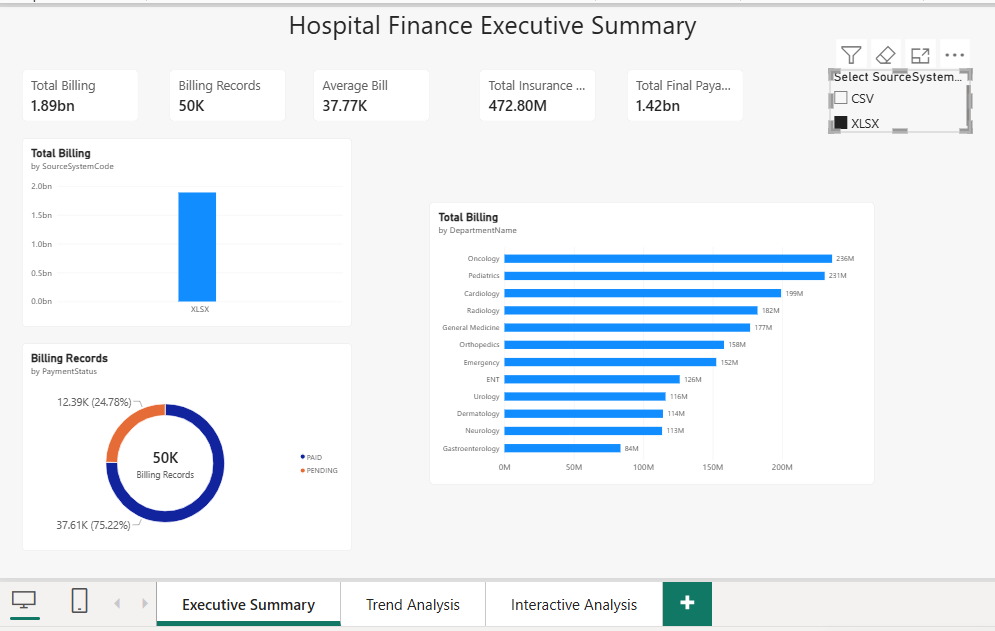

What the dashboard file says about the page in this screenshot:
{"tool":"powerbi","page":{"name":"Executive Summary","canvas":[1920,1080],"ordinal":0},"visuals":[{"type":"textbox","box":[10.1,0,1540.2,91],"z":0},{"type":"cardVisual","fields":{"Data":["FactFinanceBilling.Total Billing"]},"box":[47.3,118.2,220.2,98.8],"z":1000},{"type":"cardVisual","fields":{"Data":["FactFinanceBilling.Billing Records"]},"box":[326.3,118.2,220.2,98.8],"z":2000},{"type":"cardVisual","fields":{"Data":["FactFinanceBilling.Average Bill"]},"box":[598.2,118.2,220.2,98.8],"z":3000},{"type":"cardVisual","fields":{"Data":["FactFinanceBilling.Total Insurance Cover"]},"box":[912.7,118.2,220.2,98.8],"z":4000},{"type":"cardVisual","fields":{"Data":["FactFinanceBilling.Total Final Payable"]},"box":[1191.7,118.2,220.2,98.8],"z":5000},{"type":"clusteredColumnChart","fields":{"Category":["DimHospitalSource.SourceSystemCode"],"Y":["FactFinanceBilling.Total Billing"]},"box":[47.3,248.3,624.2,357],"z":6000},{"type":"clusteredBarChart","fields":{"Category":["DimDepartmentFinance.DepartmentName"],"Y":["FactFinanceBilling.Total Billing"]},"box":[818.1,368.9,841.8,534.4],"z":6001},{"type":"donutChart","fields":{"Category":["FactFinanceBilling.PaymentStatus"],"Y":["FactFinanceBilling.Billing Records"]},"box":[47.3,636.1,624.2,392.5],"z":6002},{"type":"slicer","fields":{"Values":["DimHospitalSource.SourceSystemCode"]},"box":[1574.8,118.2,267.2,118.2],"z":6003}]}

Visuals, with their boxes on the page's 1920x1080 design canvas (x1, y1, x2, y2). These are canvas units, not pixel positions in the 995x631 screenshot, which may show the page scaled, cropped or inside an application window:
textbox: (x1=10, y1=0, x2=1550, y2=91)
cardVisual - FactFinanceBilling.Total Billing: (x1=47, y1=118, x2=268, y2=217)
cardVisual - FactFinanceBilling.Billing Records: (x1=326, y1=118, x2=546, y2=217)
cardVisual - FactFinanceBilling.Average Bill: (x1=598, y1=118, x2=818, y2=217)
cardVisual - FactFinanceBilling.Total Insurance Cover: (x1=913, y1=118, x2=1133, y2=217)
cardVisual - FactFinanceBilling.Total Final Payable: (x1=1192, y1=118, x2=1412, y2=217)
clusteredColumnChart - DimHospitalSource.SourceSystemCode x FactFinanceBilling.Total Billing: (x1=47, y1=248, x2=672, y2=605)
clusteredBarChart - DimDepartmentFinance.DepartmentName x FactFinanceBilling.Total Billing: (x1=818, y1=369, x2=1660, y2=903)
donutChart - FactFinanceBilling.PaymentStatus x FactFinanceBilling.Billing Records: (x1=47, y1=636, x2=672, y2=1029)
slicer - DimHospitalSource.SourceSystemCode: (x1=1575, y1=118, x2=1842, y2=236)
